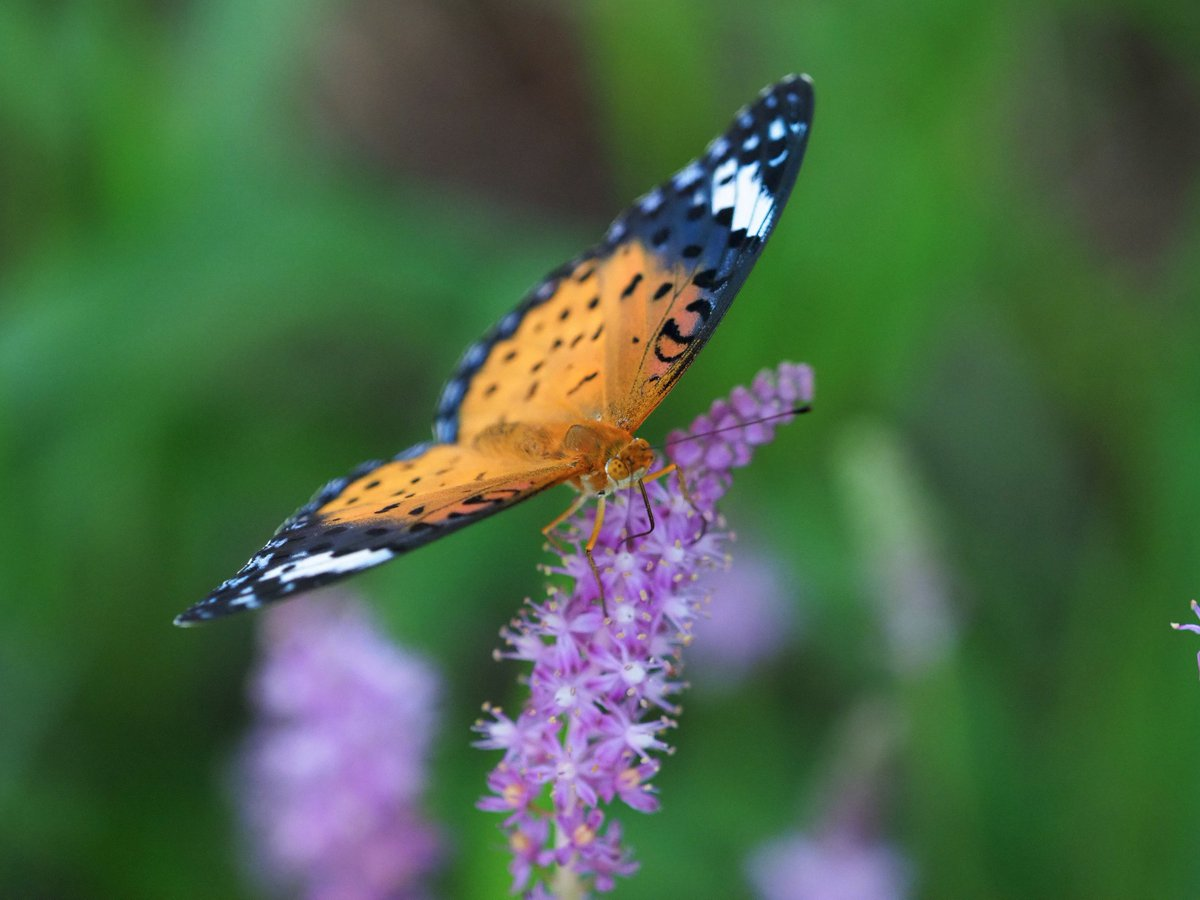Argyreus hyperbius: (161, 58, 817, 631)
butterfly: (163, 60, 819, 633)
